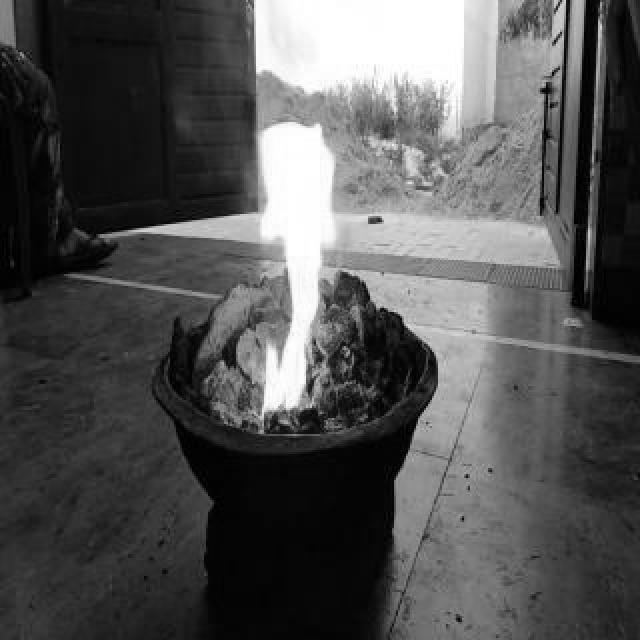Fire: (250, 86, 338, 418)
